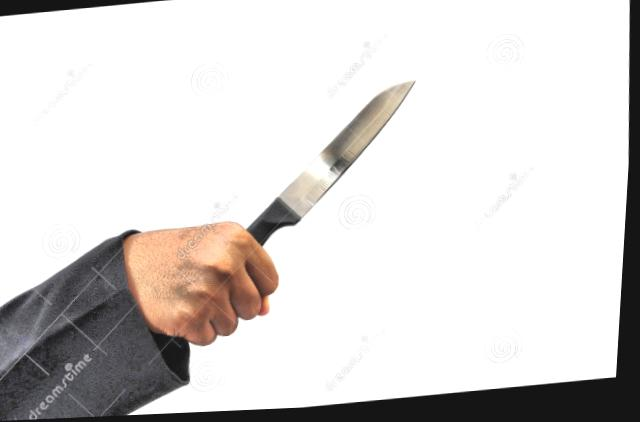knife: (184, 73, 438, 348)
